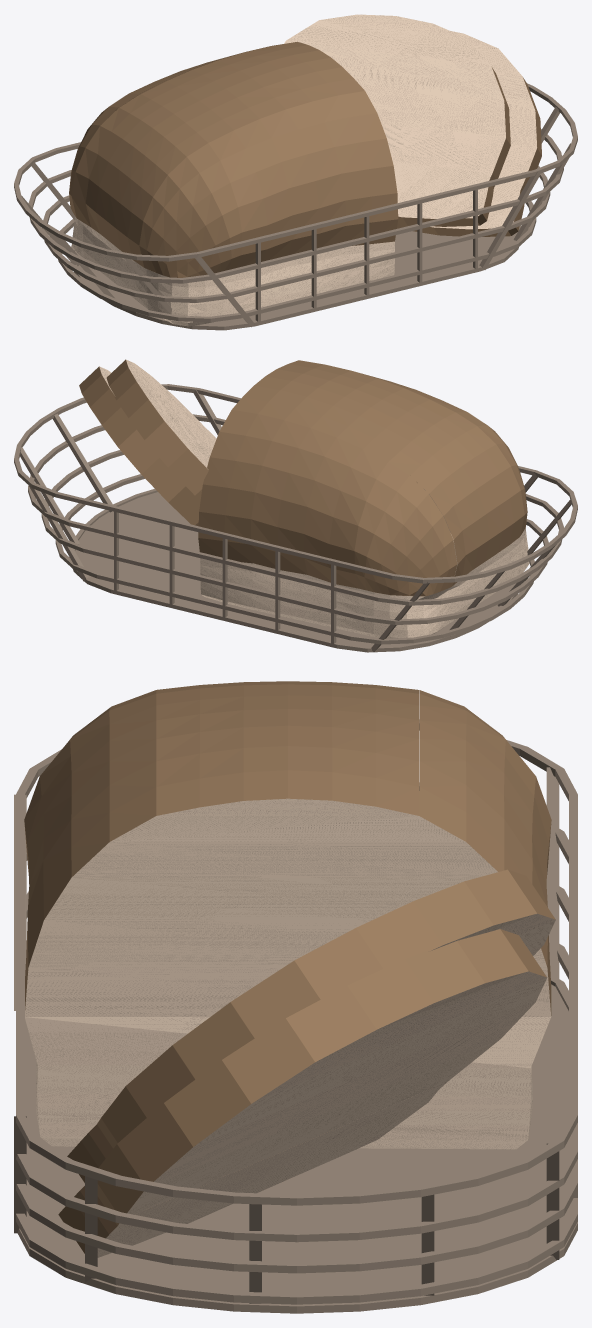
The model's file is modelBread.dae.
The picture shows the model from 3 angles, top to bottom: view 1: azimuth 30°, elevation 25°; view 2: azimuth 150°, elevation 25°; view 3: azimuth 270°, elevation 25°; orthographic projection. The views are drawn at different scales.
Parts seen in each view (by area): view 1: Component_5 (×4), Component_7 (×3), Component_3 (×8); view 2: Component_5 (×4), Component_3 (×11), Component_7 (×2); view 3: Component_7 (×4), Component_5 (×4), Component_3 (×11).
Part boxes in pixels (bbox=[...]): Component_5 (×4): bbox=[69, 42, 541, 277]; Component_7 (×3): bbox=[72, 14, 536, 326]; Component_3 (×8): bbox=[14, 83, 577, 330]; Component_5 (×4): bbox=[79, 359, 527, 596]; Component_3 (×11): bbox=[14, 384, 577, 652]; Component_7 (×2): bbox=[126, 359, 529, 638]; Component_7 (×4): bbox=[25, 798, 555, 1257]; Component_5 (×4): bbox=[24, 681, 555, 1253]; Component_3 (×11): bbox=[14, 719, 577, 1313].
Bounding box in the file's own units: 13.52 × 6.61 × 4.64.
